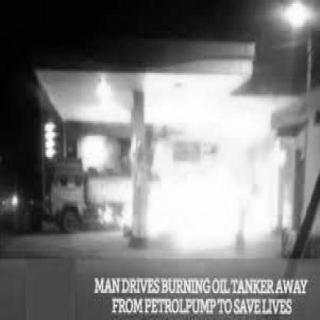Fire: (115, 76, 297, 242)
other: (43, 118, 57, 158)
